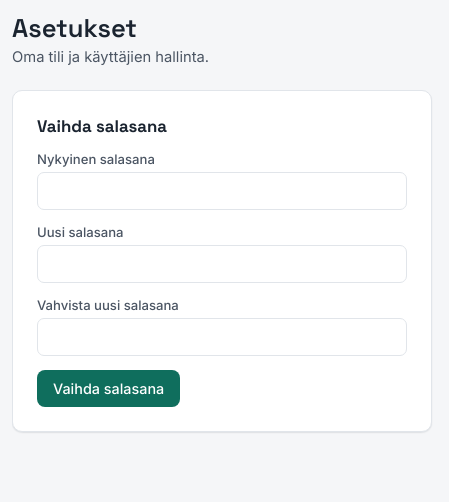
Test case: ChangePasswordCard › näyttää palvelimen virheviestin epäonnistuessa
This screenshot has width=449, height=502.
Step 1. Type "vaarin" into the password field labelled "Nykyinen salasana" → x=222, y=191, box top-left (37, 172), bottom-right (407, 210)
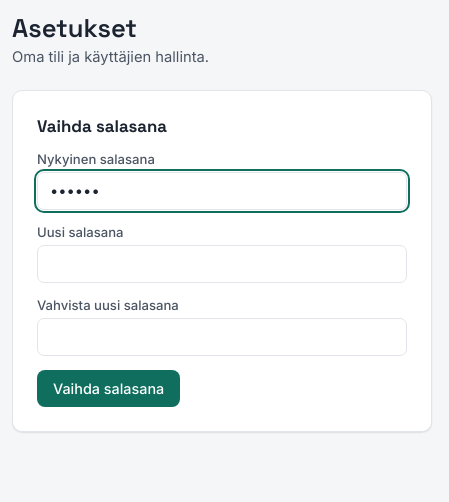
Step 2. Type "uusisalasana1" into the password field labelled "Uusi salasana" → x=222, y=264, box top-left (37, 245), bottom-right (407, 283)
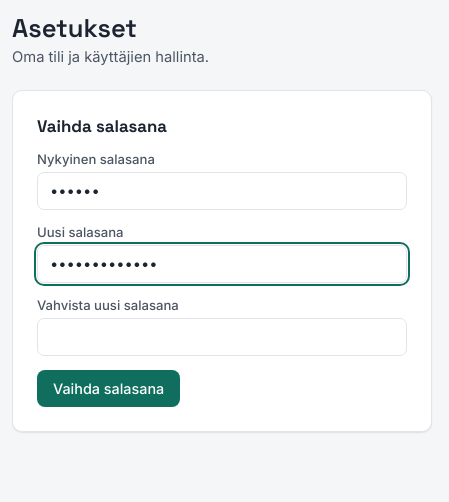
Step 3. Type "uusisalasana1" into the password field labelled "Vahvista uusi salasana" → x=222, y=337, box top-left (37, 318), bottom-right (407, 356)
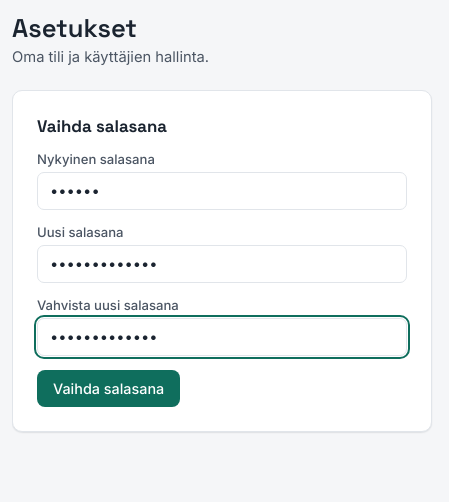
Step 4. Click the button "Vaihda salasana" → x=109, y=388, box top-left (37, 370), bottom-right (180, 407)
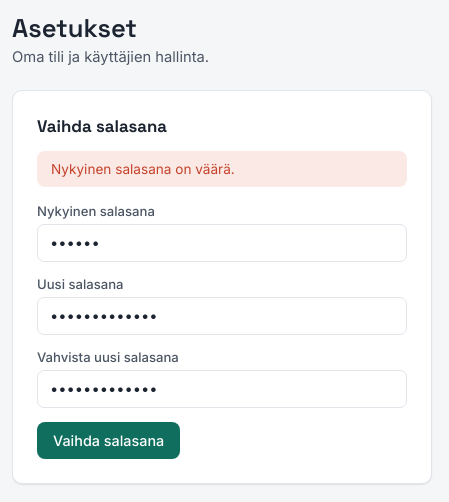
Result: the text "Nykyinen salasana on väärä." is shown at top-left (37, 151), bottom-right (407, 187)
